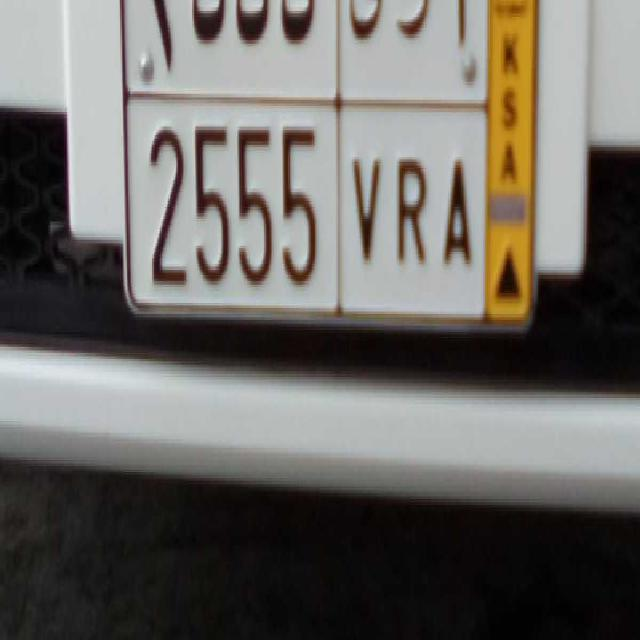license_plate: (137, 94, 483, 328)
